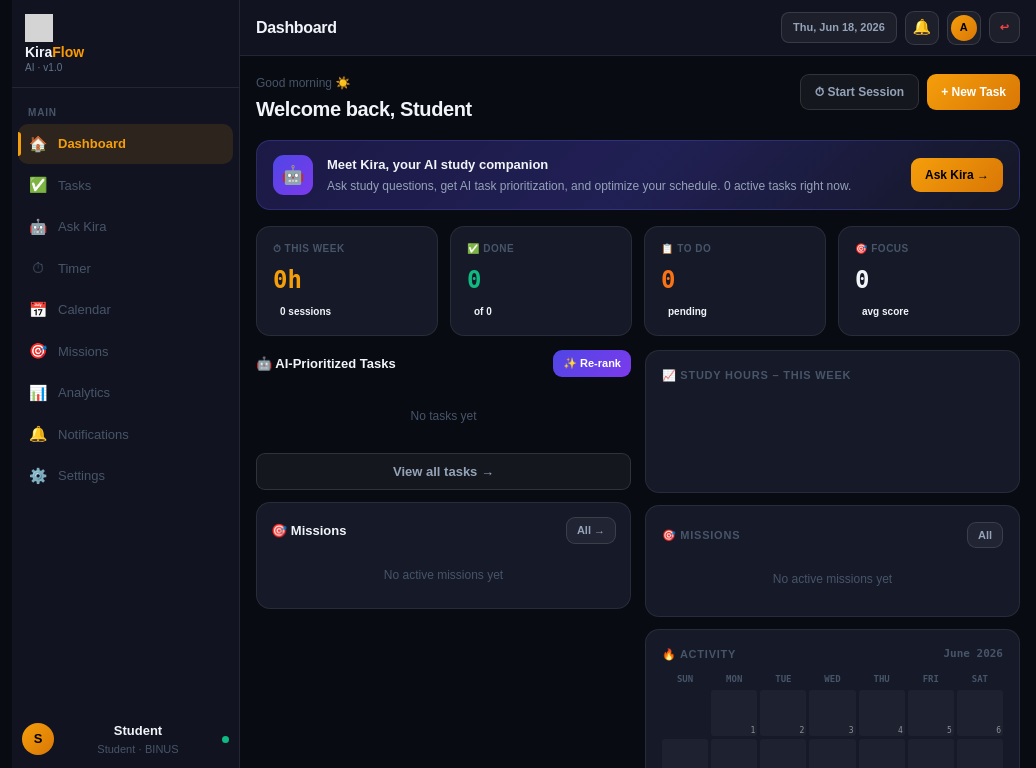
Test: DashboardPage – Navigation › DB-12: clicking Notifications nav shows notifications page
Click the button "🔔 Notifications": coordinates (126, 434) [18, 414, 233, 454]
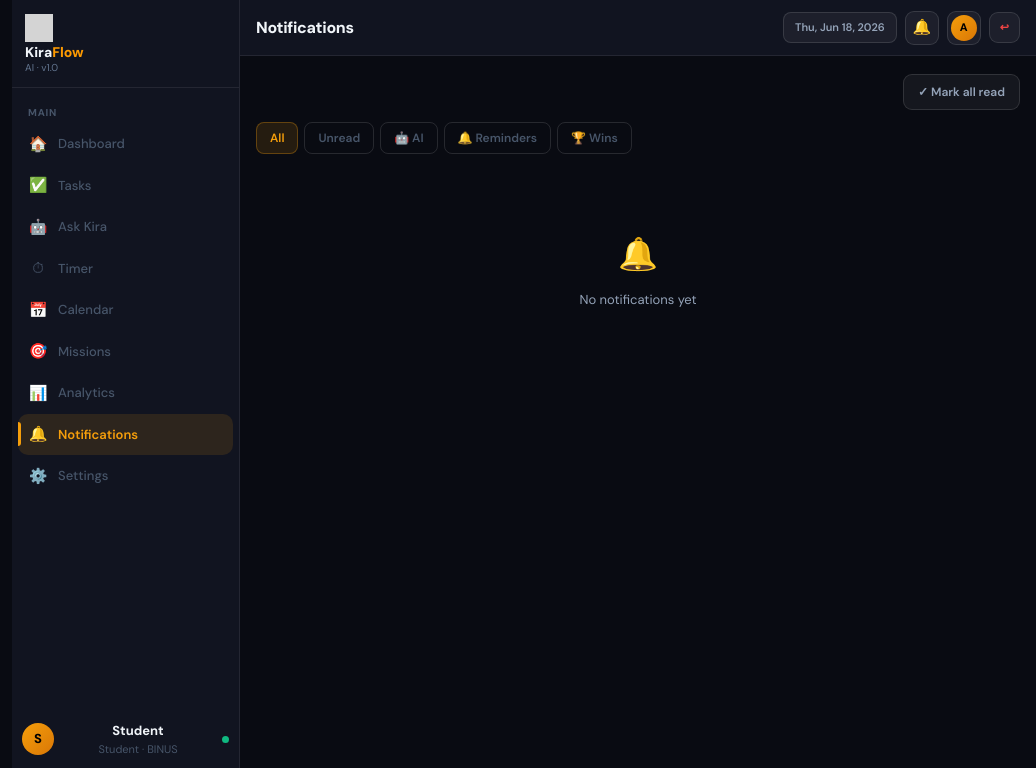
Expected: the button "✓ Mark all read" is shown, [903, 74, 1020, 110]
